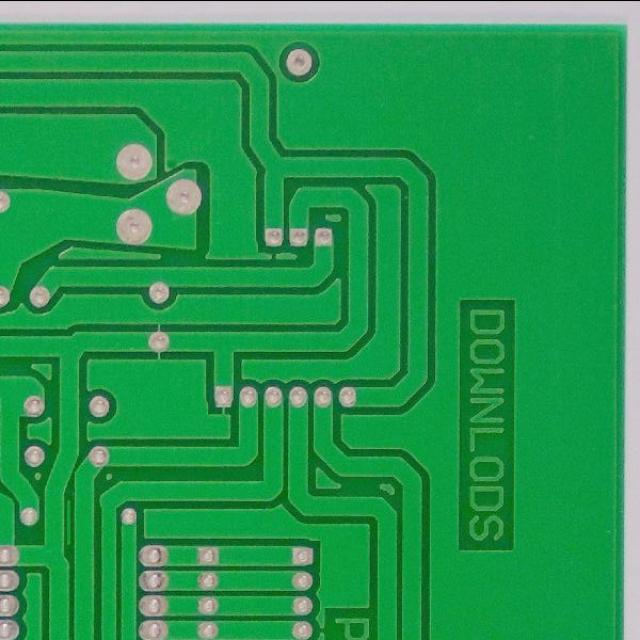spurious_copper: (62, 496, 76, 548)
